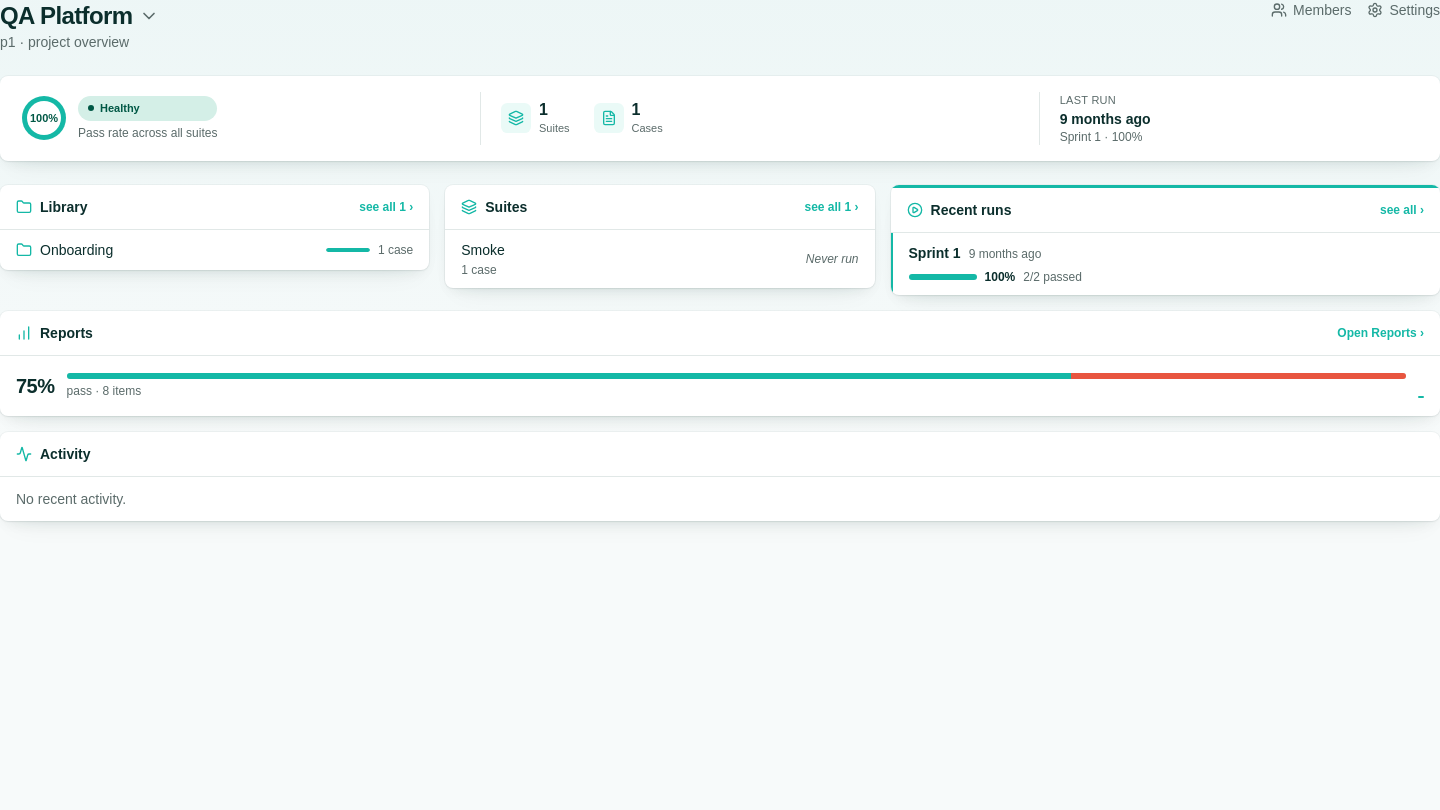
ProjectPage landing › switch-project chevron on the heading › shows a chevron on the heading that opens the switcher when the account has multiple projects
Expected: the heading "QA Platform" is shown, [0,0,132,32]
Click the button named "switch project": point(148, 16) [138,6,158,26]
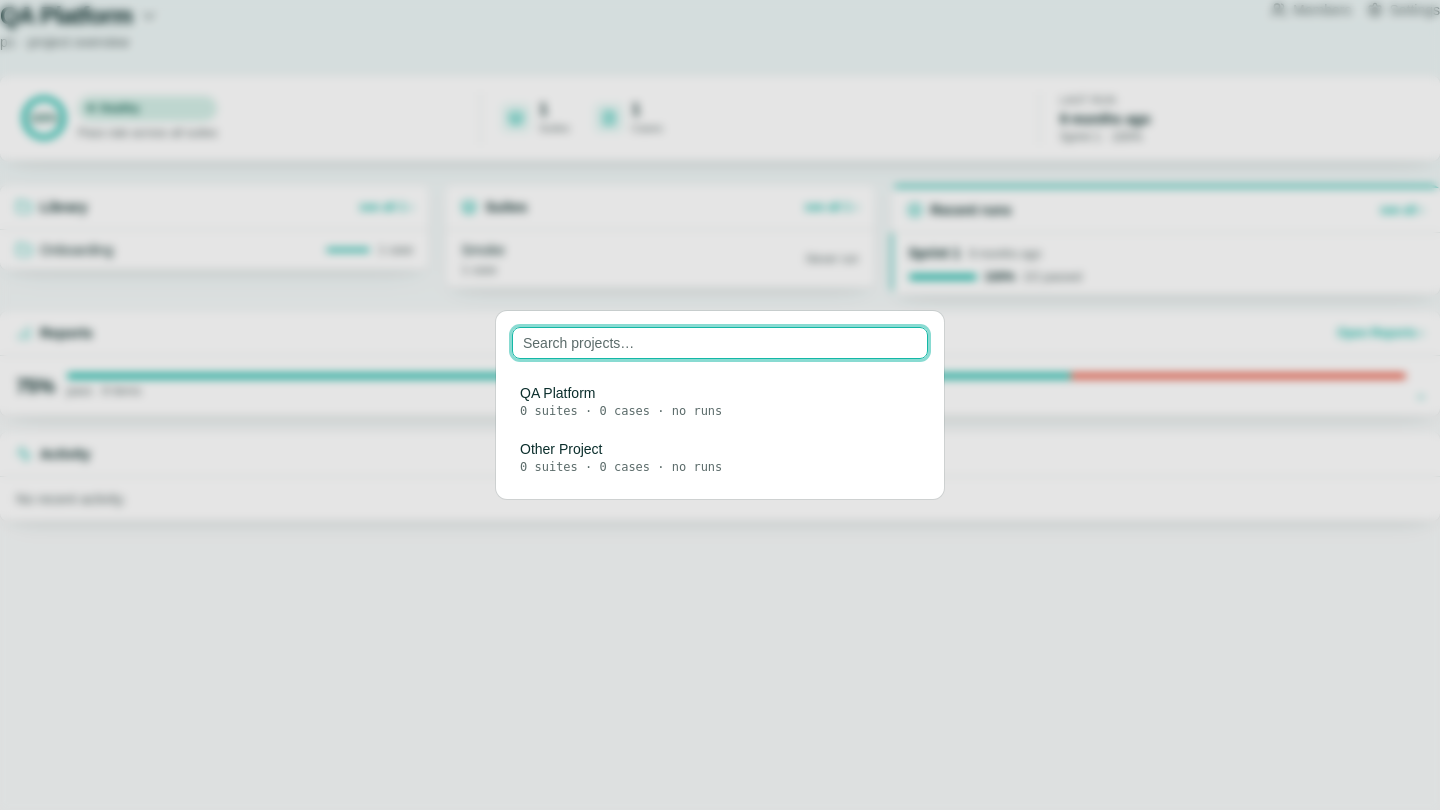
Expected: the dialog is shown, [496,311,944,499]
